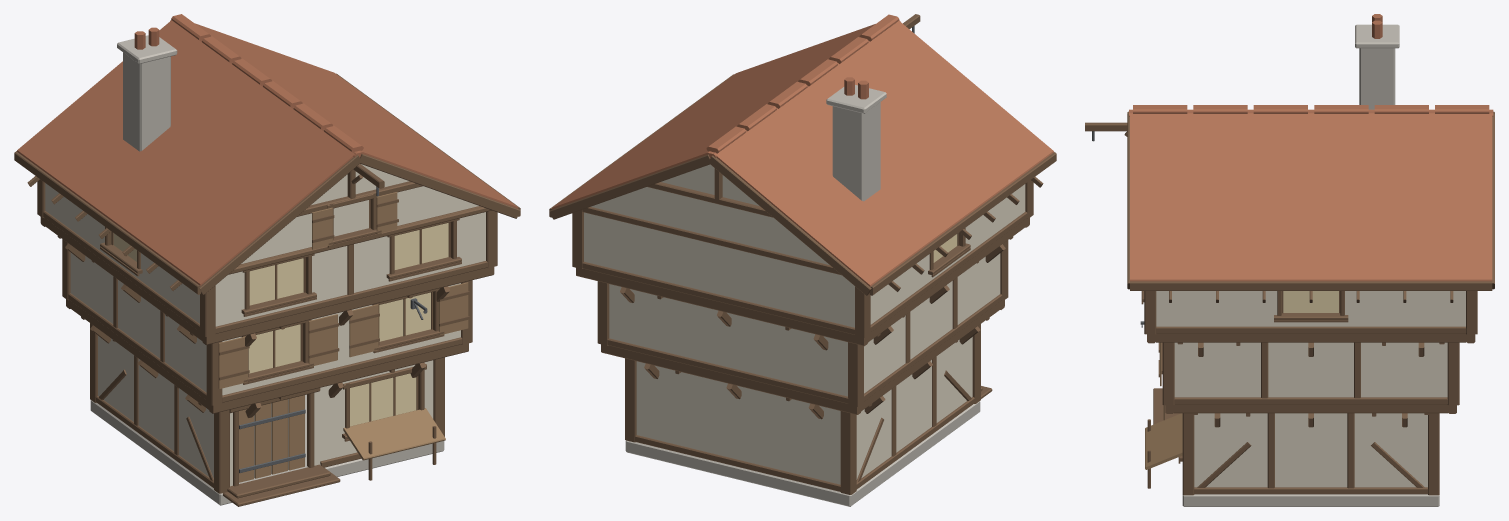
File: house_b.glb
3 renders of one model, left to right at view 1: azimuth 30°, elevation 25°; view 2: azimuth 150°, elevation 25°; view 3: azimuth 270°, elevation 25°, orthographic.
Parts seen in each view (by area): view 1: house_b; view 2: house_b; view 3: house_b.
Part boxes in pixels (bbox=[...]): house_b: bbox=[14, 14, 520, 506]; house_b: bbox=[549, 14, 1056, 506]; house_b: bbox=[1085, 14, 1494, 506].
Size of the model in its own units: 13.94 by 15.69 by 14.87.
